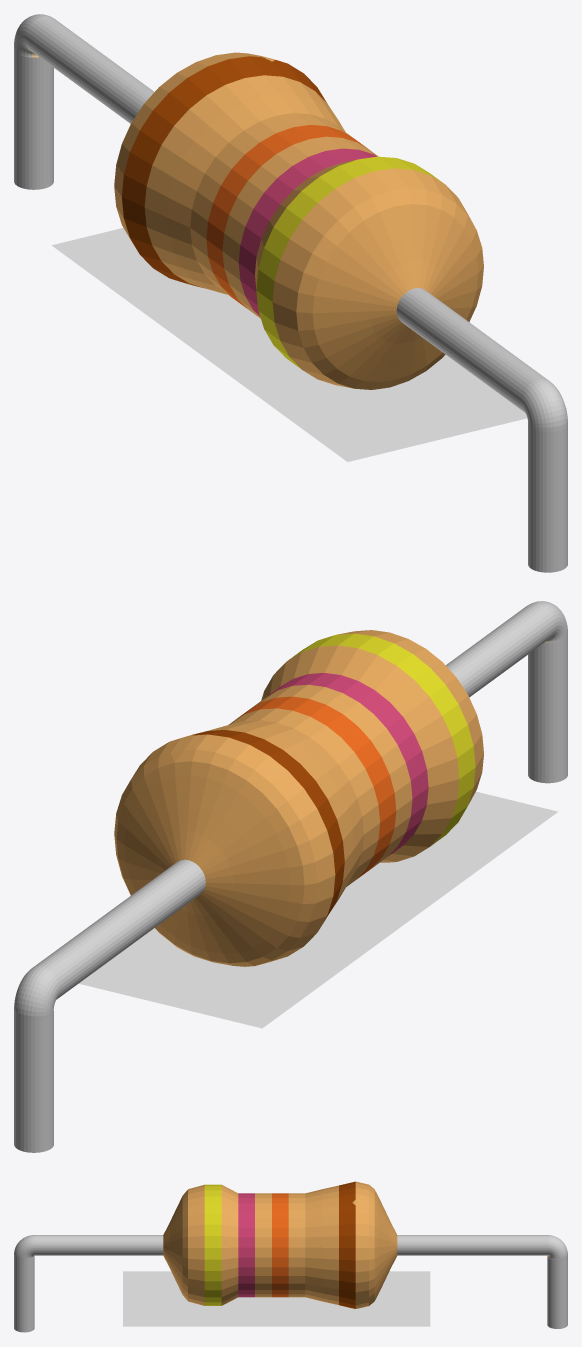
Rendered from R5_tan_5.gltf.
3 views of the same model, one above another, from view 1: azimuth 30°, elevation 25°; view 2: azimuth 150°, elevation 25°; view 3: azimuth 270°, elevation 25° (orthographic). The views are drawn at different scales.
Parts seen in each view (by area): view 1: R5_tan_5, R5_tan_5_plane; view 2: R5_tan_5, R5_tan_5_plane; view 3: R5_tan_5, R5_tan_5_plane.
Part boxes in pixels (x1,y1,x2,y2): R5_tan_5: (14, 14, 567, 572); R5_tan_5_plane: (52, 227, 566, 461); R5_tan_5: (14, 601, 567, 1152); R5_tan_5_plane: (79, 791, 557, 1028); R5_tan_5: (14, 1181, 567, 1332); R5_tan_5_plane: (123, 1271, 430, 1326).
Size of the model in its own units: 0.0162 by 0.0189 by 0.0676.
